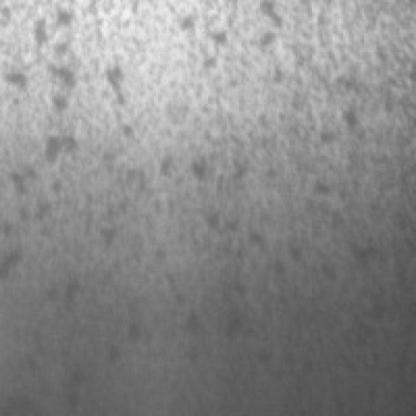pitted_surface: (100, 4, 414, 358), (6, 19, 185, 383)
